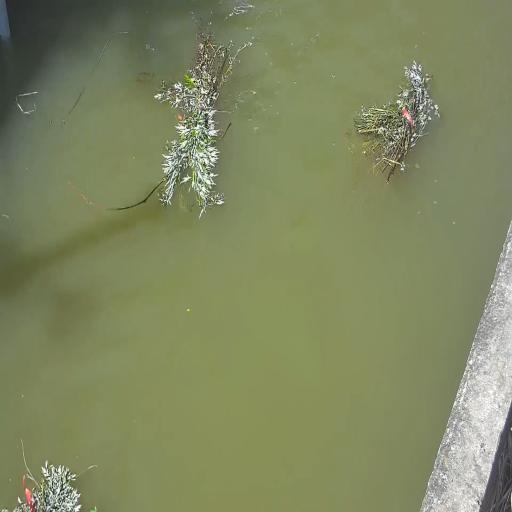twig: (154, 16, 241, 218), (349, 60, 438, 188), (9, 439, 97, 512)
